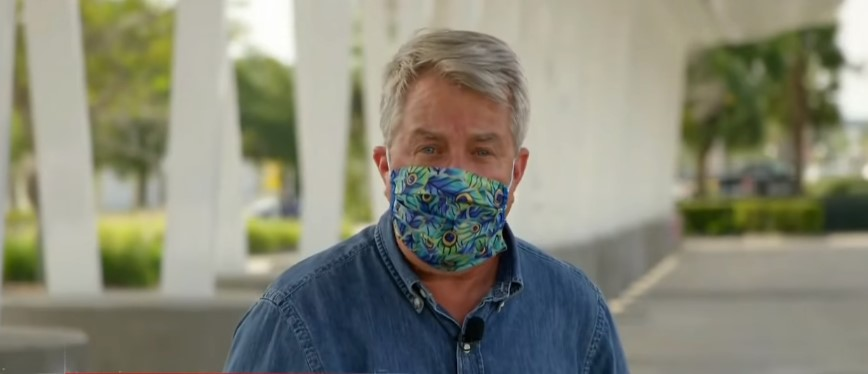face_with_mask: (372, 30, 535, 276)
